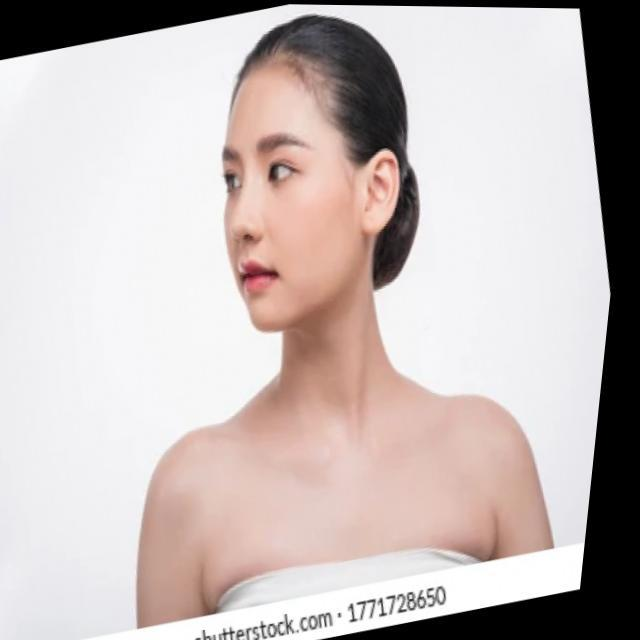Nonhelmet: (203, 5, 448, 347)
